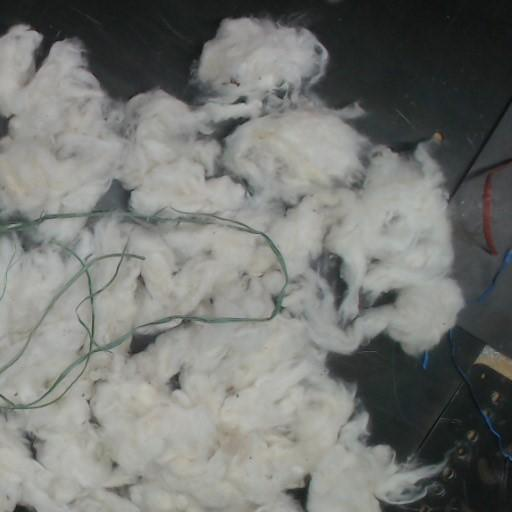conveyor belt: (97, 184, 128, 208), (289, 480, 307, 507), (376, 293, 394, 304), (0, 118, 7, 136)
cotton: (0, 18, 463, 511)
thread: (0, 206, 288, 410), (449, 335, 511, 461), (482, 158, 511, 255), (0, 210, 111, 235), (476, 248, 511, 303), (422, 352, 429, 368)
